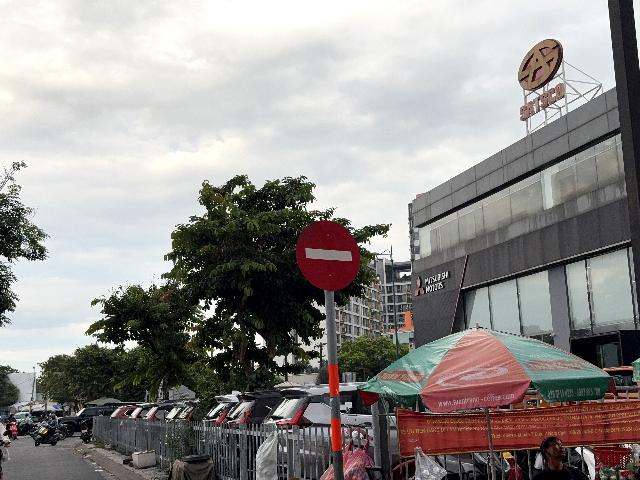cam-di-nguoc-chieu: (296, 220, 360, 292)
